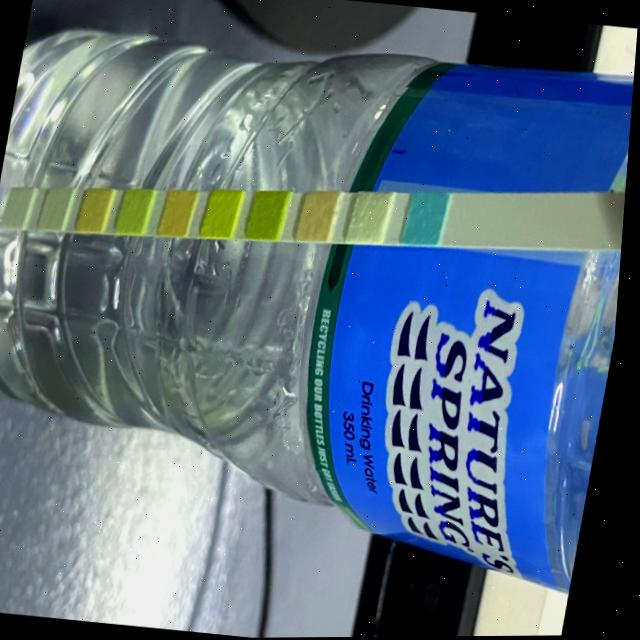Bilirubin: (352, 194, 393, 237)
Blood: (206, 189, 243, 235)
Glucose: (405, 190, 451, 244)
Ketone: (302, 190, 341, 237)
Leukocytes: (8, 186, 36, 226)
Nitrite: (42, 186, 74, 228)
Protein: (119, 187, 155, 232)
SpGravity: (252, 190, 290, 237)
Urobilinogen: (82, 187, 114, 229)
pH: (163, 188, 198, 233)
